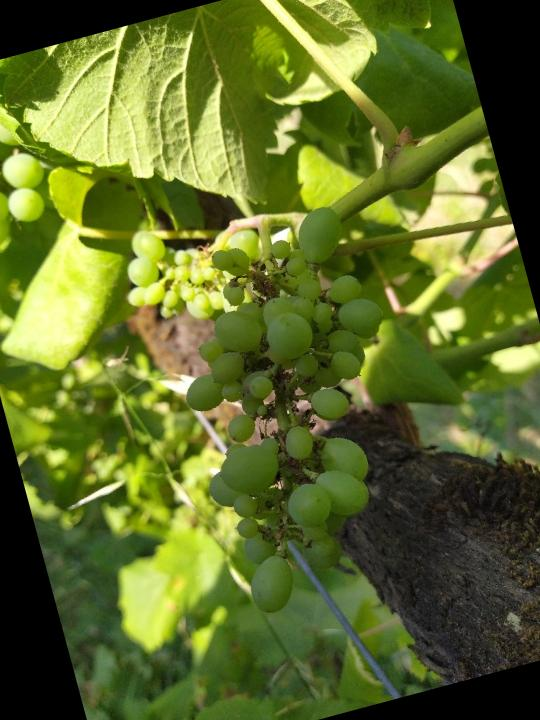grape: (134, 172, 454, 627), (104, 205, 234, 340)
